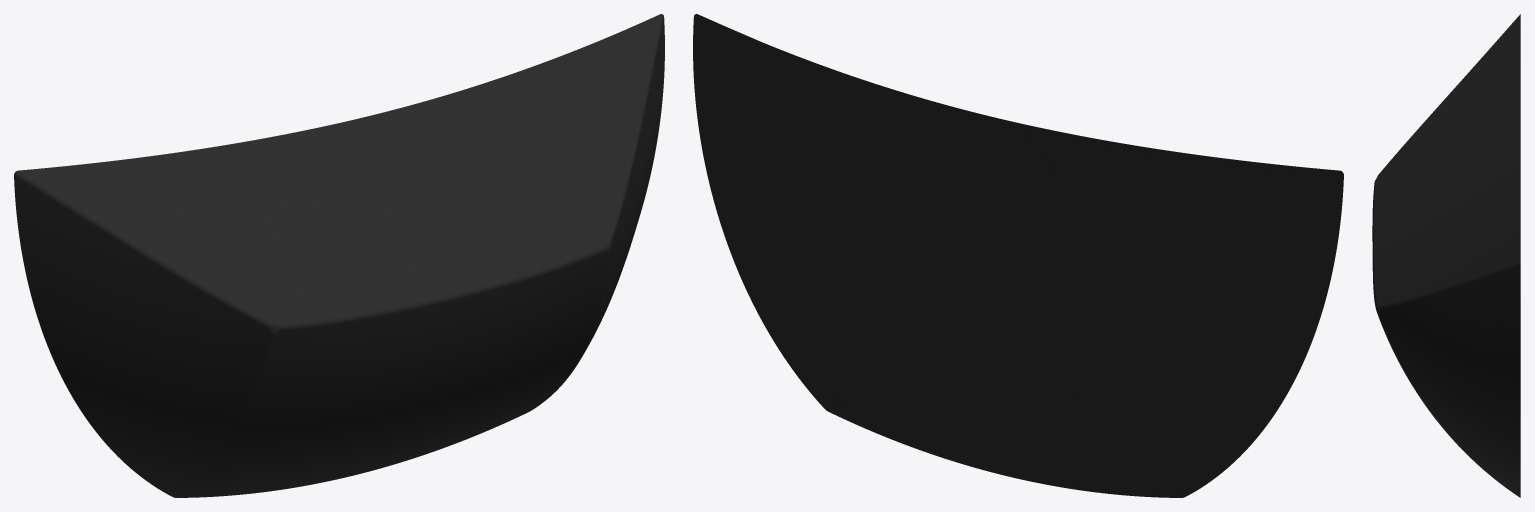
Rendered from hold02.glb.
3 renders of one model, left to right at view 1: azimuth 30°, elevation 25°; view 2: azimuth 150°, elevation 25°; view 3: azimuth 270°, elevation 25°, orthographic. The views are drawn at different scales.
Visible parts, largest first — view 1: Object_2; view 2: Object_2; view 3: Object_2.
Boxes of the visible parts, x1,y1,x2,y2 form: Object_2: (14,14,664,497); Object_2: (693,14,1343,497); Object_2: (1372,14,1520,497).
Bounding box in the file's own units: 541 × 307 × 136.
Materials: 1 (1 with a texture image).
